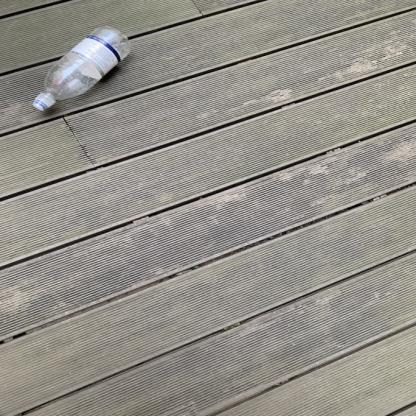trash: (29, 24, 132, 113)
